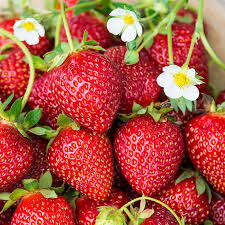Fresa: (112, 105, 187, 200), (52, 44, 124, 135), (44, 119, 115, 203), (146, 17, 213, 95), (182, 104, 225, 198), (155, 168, 213, 225), (1, 116, 38, 193), (10, 185, 77, 225)
